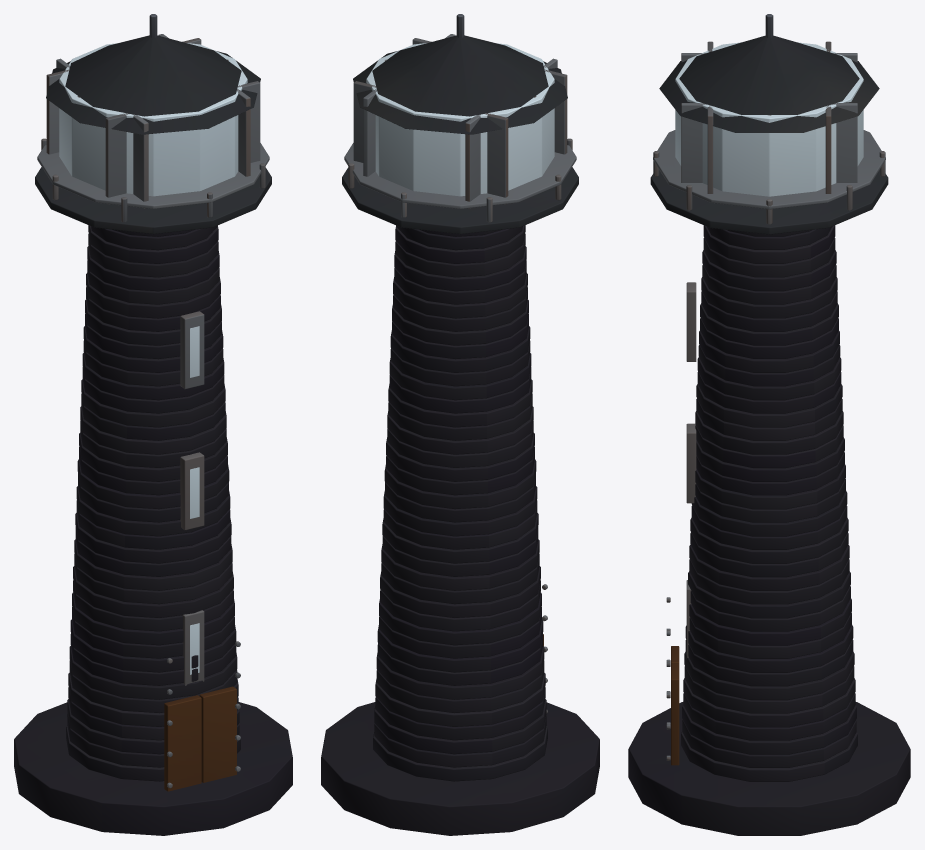
The model's file is building_watchtower.fbx.
The picture shows the model from 3 angles, left to right: view 1: azimuth 30°, elevation 25°; view 2: azimuth 150°, elevation 25°; view 3: azimuth 270°, elevation 25°; orthographic projection.
Visible parts, largest first — view 1: building_watchtower; view 2: building_watchtower; view 3: building_watchtower.
Boxes of the visible parts, x1=… form: building_watchtower: x1=14, y1=14, x2=292, y2=835; building_watchtower: x1=321, y1=14, x2=599, y2=835; building_watchtower: x1=628, y1=14, x2=910, y2=835.
Size of the model in its own units: 3.35 by 10.26 by 3.44.
